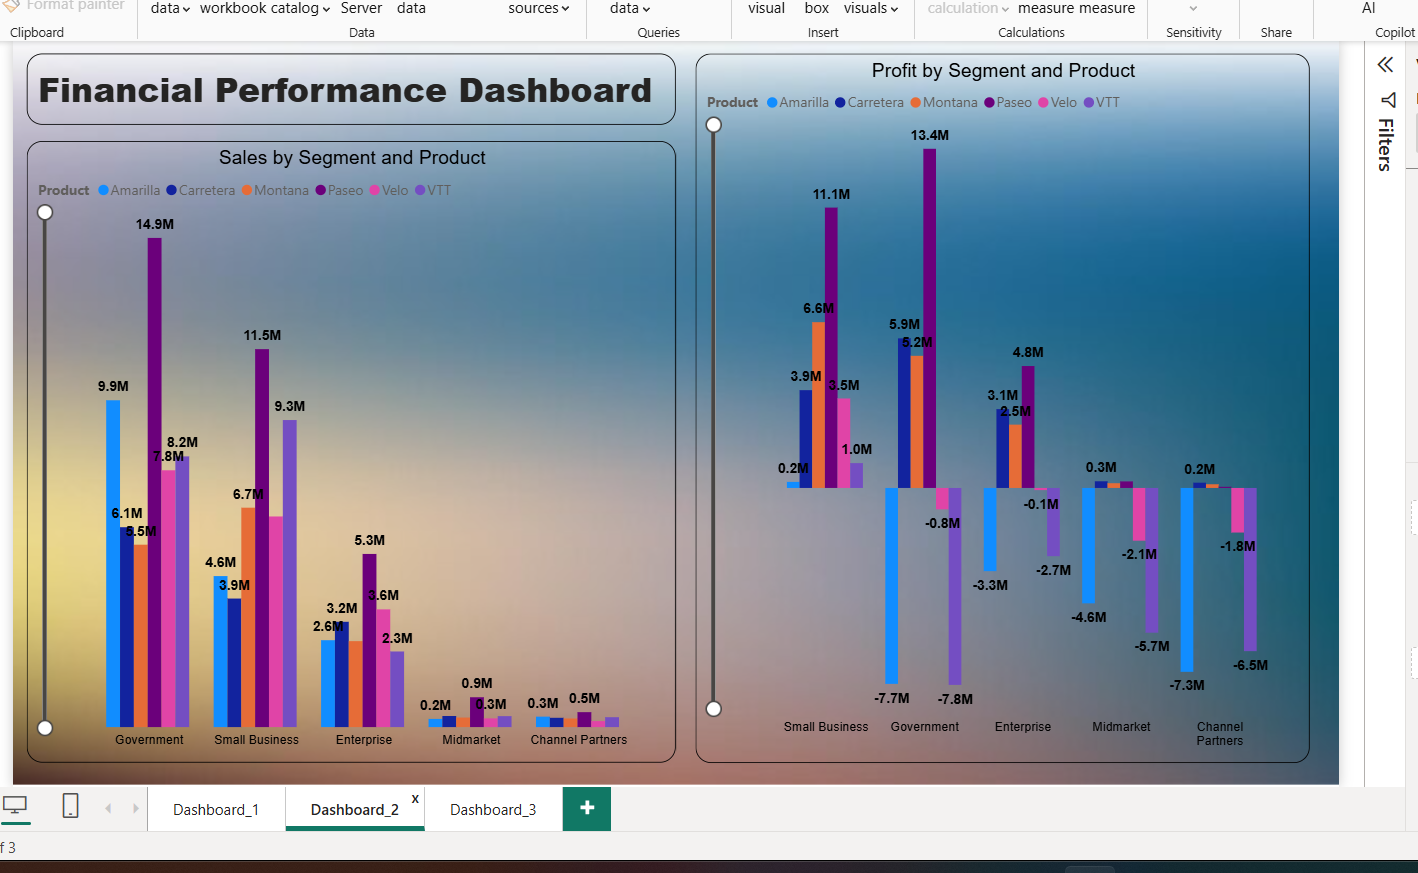

Layout of this report page (visuals, bound fields, positions):
{"tool":"powerbi","page":{"name":"Dashboard_2","canvas":[1280,720],"ordinal":1},"visuals":[{"type":"clusteredColumnChart","title":" Sales by Segment and Product","fields":{"Category":["Cleaned_Data.Segment"],"Y":["Sum(Cleaned_Data. Sales)"],"Series":["Cleaned_Data.Product"]},"box":[12.8,96.5,626.7,600],"z":0},{"type":"clusteredColumnChart","title":"Profit by Segment and Product","fields":{"Category":["Cleaned_Data.Segment"],"Series":["Cleaned_Data.Product"],"Y":["Sum(Cleaned_Data.Profit)"]},"box":[659.3,11.6,593,684.9],"z":1000},{"type":"textbox","box":[12.8,11.6,626.7,68.6],"z":2000}]}

Visuals, with their boxes on the page's 1280x720 design canvas (x1, y1, x2, y2). These are canvas units, not pixel positions in the 1418x873 screenshot, which may show the page scaled, cropped or inside an application window:
" Sales by Segment and Product" clusteredColumnChart: detection(13, 96, 640, 696)
"Profit by Segment and Product" clusteredColumnChart: detection(659, 12, 1252, 696)
textbox: detection(13, 12, 640, 80)
